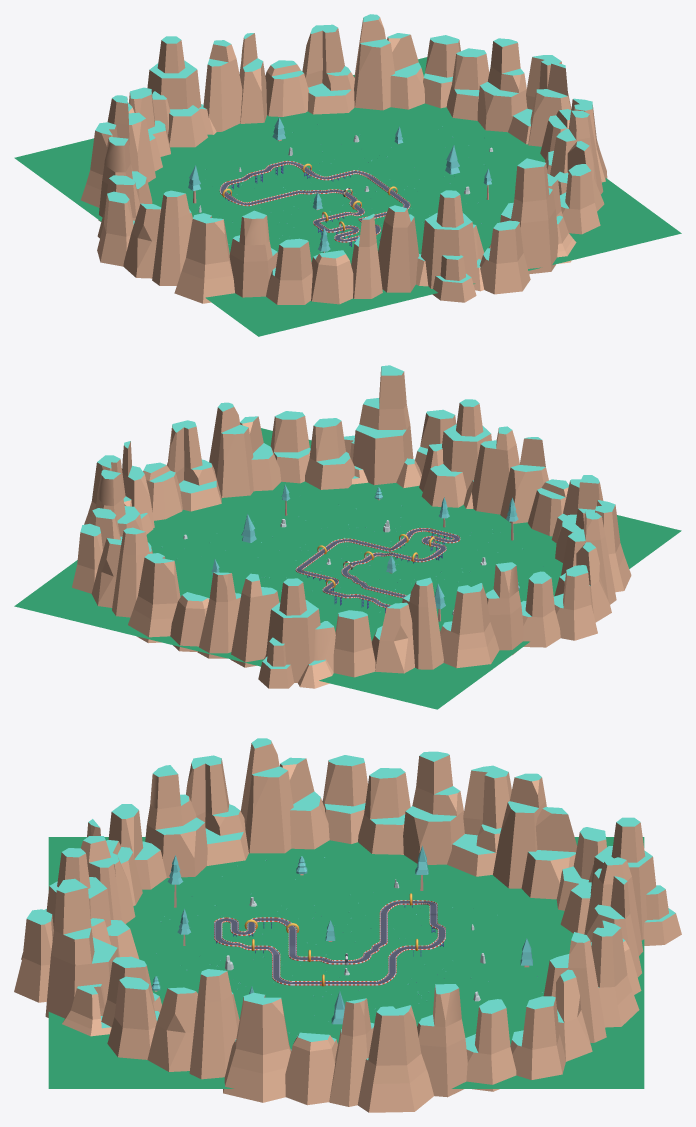
File: gates.glb
3 views of the same model, one above another, from view 1: azimuth 30°, elevation 25°; view 2: azimuth 150°, elevation 25°; view 3: azimuth 270°, elevation 25° (orthographic). The views are drawn at different scales.
Visible parts, largest first — view 1: Plane, rock_tallB, rock_tallA, rock_tallB.001, rock_tallH, rock_tallH.002, rock_tallG.002, rock_tallI.002, rock_tallG, rock_tallC, rock_tallI, rock_tallC.001 (+23 smaller); view 2: Plane, rock_tallB.001, rock_tallA, rock_tallB, rock_tallH.001, rock_tallI.003, rock_tallH.002, rock_tallH.004, rock_tallC.001, rock_tallC, rock_tallF.009, rock_tallD.001 (+25 smaller); view 3: Plane, rock_tallA, rock_tallH.003, rock_tallH.004, rock_tallB.001, rock_tallG.001, rock_tallI, rock_tallG, rock_tallH.001, rock_tallH, rock_tallI.003, rock_tallG.002 (+24 smaller).
Boxes of the visible parts, x1,y1,x2,y2 form: Plane: [14, 57, 681, 336]; rock_tallB: [416, 190, 484, 302]; rock_tallA: [489, 158, 576, 274]; rock_tallB.001: [147, 36, 216, 147]; rock_tallH: [174, 213, 234, 303]; rock_tallH.002: [302, 24, 354, 114]; rock_tallG.002: [477, 38, 527, 132]; rock_tallI.002: [354, 14, 394, 110]; rock_tallG: [229, 210, 277, 297]; rock_tallC: [378, 205, 418, 292]; rock_tallI: [152, 190, 192, 285]; rock_tallC.001: [203, 40, 242, 131]; Plane: [14, 428, 681, 709]; rock_tallB.001: [258, 578, 335, 688]; rock_tallA: [344, 365, 421, 488]; rock_tallB: [419, 399, 491, 508]; rock_tallH.001: [440, 583, 499, 669]; rock_tallI.003: [209, 402, 253, 497]; rock_tallH.002: [128, 553, 180, 643]; rock_tallH.004: [167, 420, 221, 511]; rock_tallC.001: [230, 573, 279, 667]; rock_tallC: [471, 426, 519, 514]; rock_tallF.009: [305, 418, 354, 489]; rock_tallD.001: [197, 572, 241, 658]; Plane: [48, 837, 644, 1088]; rock_tallA: [45, 878, 118, 1036]; rock_tallH.003: [357, 1005, 433, 1112]; rock_tallH.004: [223, 992, 291, 1102]; rock_tallB.001: [560, 817, 681, 945]; rock_tallG.001: [403, 751, 464, 864]; rock_tallI: [241, 738, 293, 853]; rock_tallG: [145, 765, 207, 877]; rock_tallH.001: [447, 765, 511, 876]; rock_tallH: [186, 755, 248, 865]; rock_tallI.003: [189, 969, 239, 1079]; rock_tallG.002: [417, 984, 467, 1097].
Size of the model in its own units: 166 by 33.79 by 161.
Materials: 91 (21 with a texture image).
